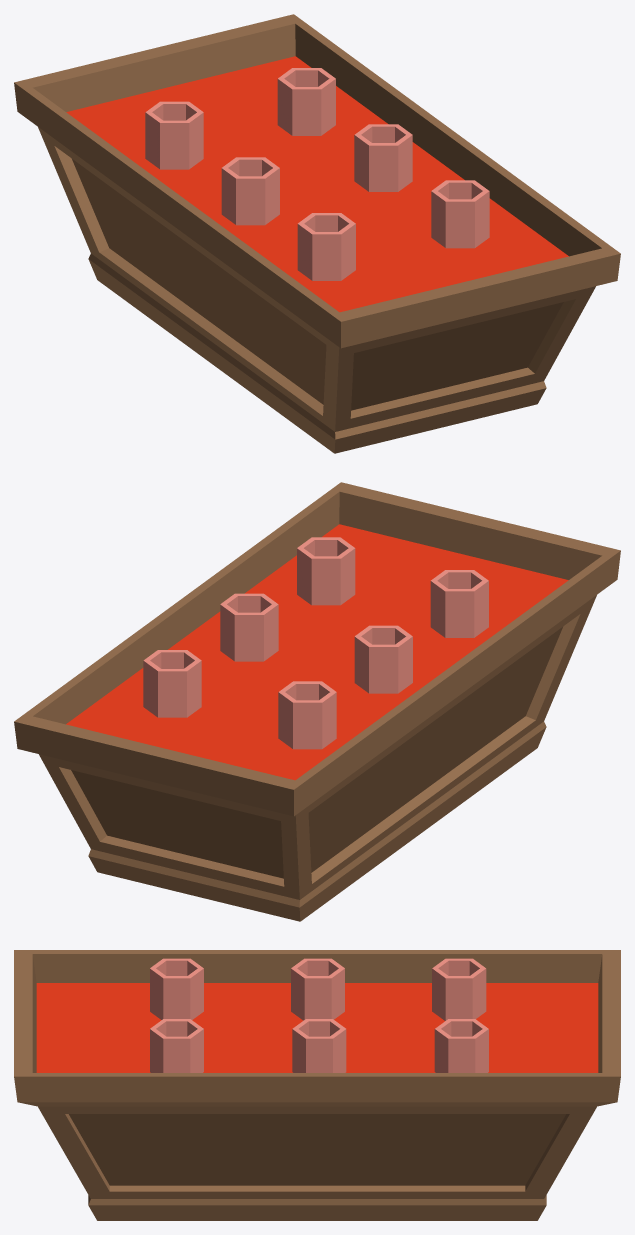
The model's file is planting pots.fbx.
3 renders of one model, top to bottom at view 1: azimuth 30°, elevation 25°; view 2: azimuth 150°, elevation 25°; view 3: azimuth 270°, elevation 25°, orthographic. The views are drawn at different scales.
Parts seen in each view (by area): view 1: pot, soil, plant area; view 2: pot, soil, plant area; view 3: pot, soil, plant area.
Part boxes in pixels (x1,y1,x2,y2): pot: [14, 14, 620, 453]; soil: [66, 56, 568, 312]; plant area: [145, 68, 489, 280]; pot: [14, 482, 620, 921]; soil: [66, 524, 568, 780]; plant area: [143, 537, 488, 749]; pot: [14, 950, 620, 1220]; soil: [36, 983, 598, 1072]; plant area: [150, 958, 488, 1072].
Bounding box in the file's own units: 171 × 111 × 346.
